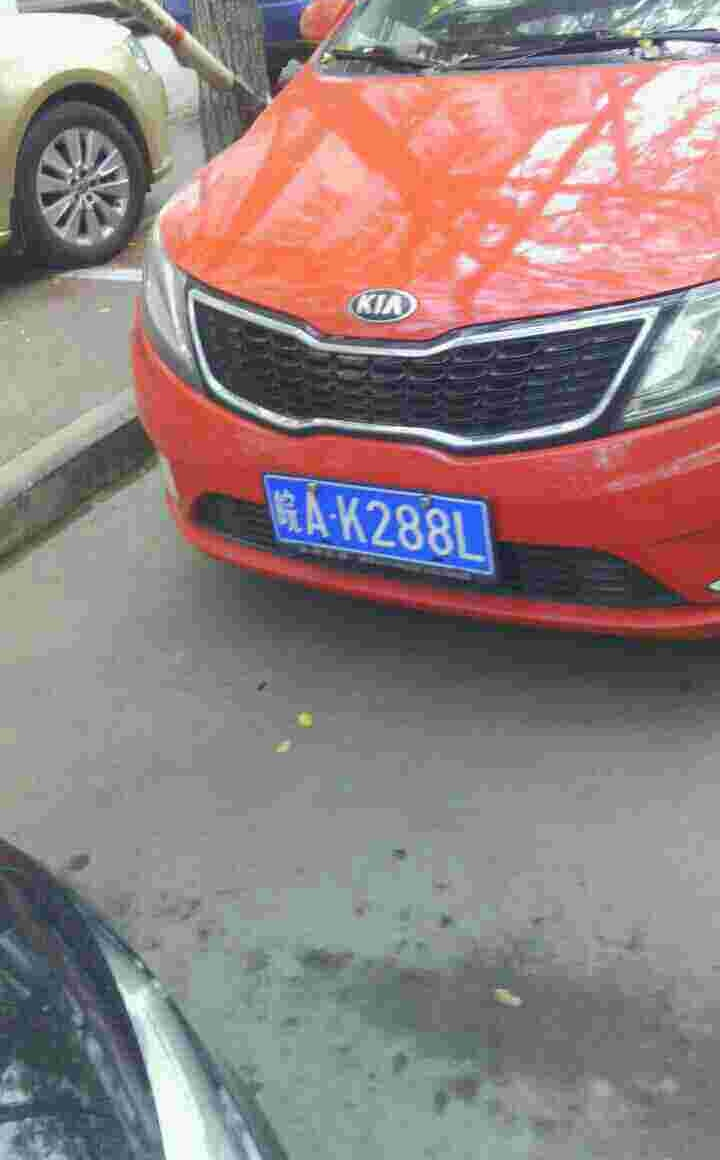license_plate: (268, 481, 501, 579)
